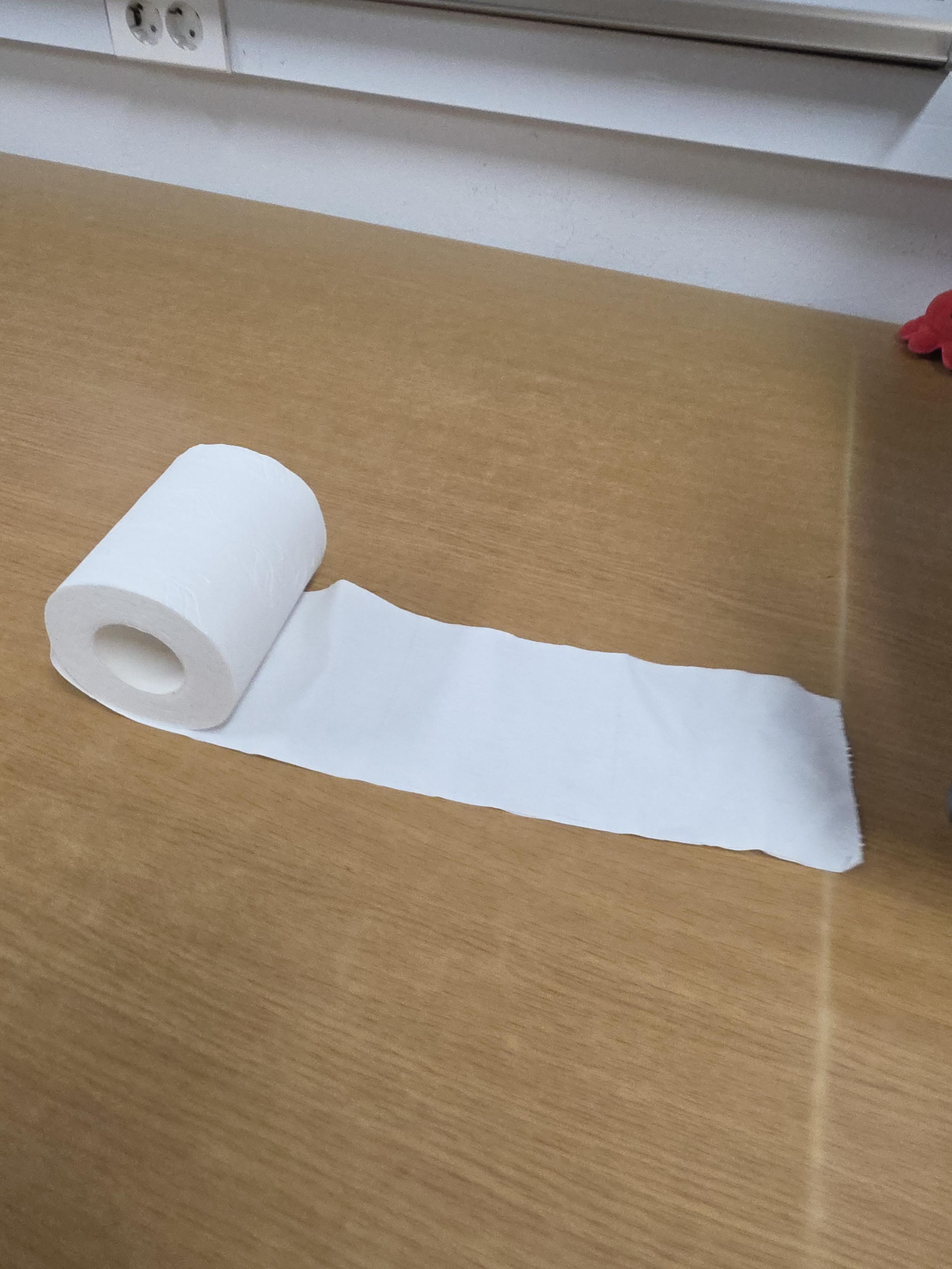tissue: (43, 443, 865, 873)
